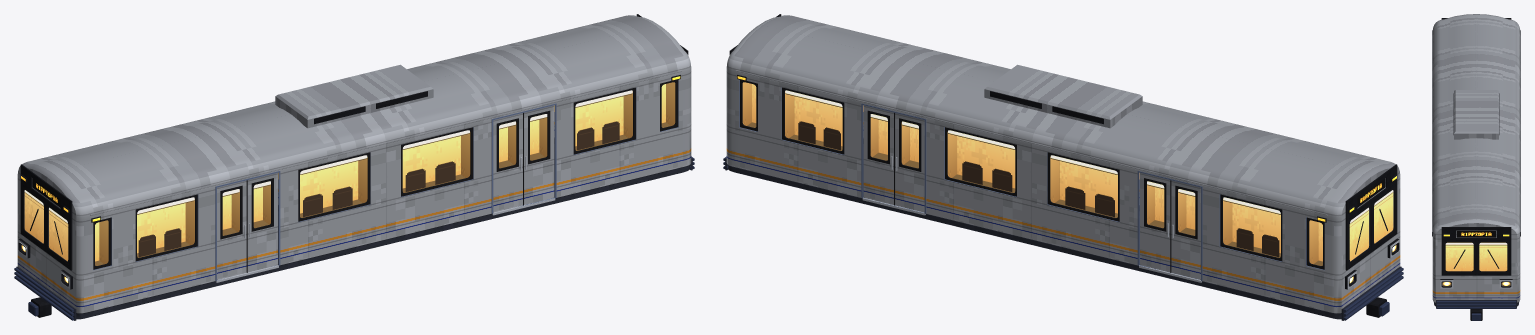
File: Ripptopia_Train.fbx
3 renders of one model, left to right at view 1: azimuth 30°, elevation 25°; view 2: azimuth 150°, elevation 25°; view 3: azimuth 270°, elevation 25°, orthographic. The views are drawn at different scales.
Parts seen in each view (by area): view 1: TR_Body, TR_Roof, TR_Door_01_L, TR_Door_00_L, TR_Cab_B, TR_Window_L_02_L, TR_Window_L_03_L, TR_Window_M_01_L, TR_Window_M_04_L, TR_Window_C_00_L, TR_Window_C_05_L; view 2: TR_Body, TR_Roof, TR_Door_01_R, TR_Door_00_R, TR_Cab_B, TR_Window_L_02_R, TR_Window_L_03_R, TR_Window_M_01_R, TR_Window_M_04_R, TR_Window_C_00_R, TR_Window_C_05_R; view 3: TR_Body, TR_Cab_A, TR_Roof.
Part boxes in pixels (x1,y1,x2,y2): TR_Body: (17,15,691,319); TR_Roof: (90,64,682,215); TR_Door_01_L: (491,103,556,215); TR_Door_00_L: (215,171,280,282); TR_Cab_B: (14,164,76,320); TR_Window_L_02_L: (298,152,370,221); TR_Window_L_03_L: (401,127,472,196); TR_Window_M_01_L: (135,194,197,261); TR_Window_M_04_L: (573,87,635,154); TR_Window_C_00_L: (93,217,111,269); TR_Window_C_05_L: (660,80,677,131); TR_Body: (726,15,1400,319); TR_Roof: (735,64,1327,215); TR_Door_01_R: (861,103,926,215); TR_Door_00_R: (1137,171,1202,282); TR_Cab_B: (1341,164,1403,320); TR_Window_L_02_R: (1047,152,1119,221); TR_Window_L_03_R: (945,127,1016,196); TR_Window_M_01_R: (1220,194,1282,261); TR_Window_M_04_R: (782,87,844,154); TR_Window_C_00_R: (1306,217,1324,269); TR_Window_C_05_R: (740,80,757,131); TR_Body: (1432,14,1520,306); TR_Cab_A: (1436,227,1516,320); TR_Roof: (1432,30,1520,231).
Bounding box in the file's own units: 16.6 × 3.6 × 2.84.
7 materials, 6 textured.
